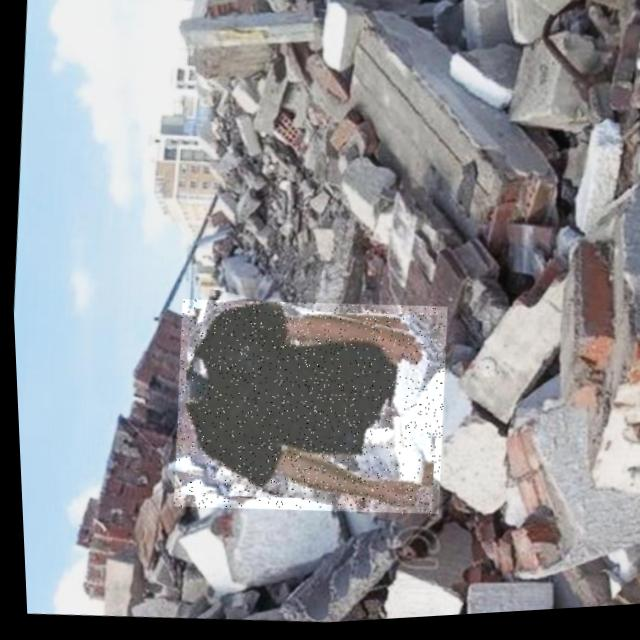Person in Rubble: (161, 288, 451, 531)
